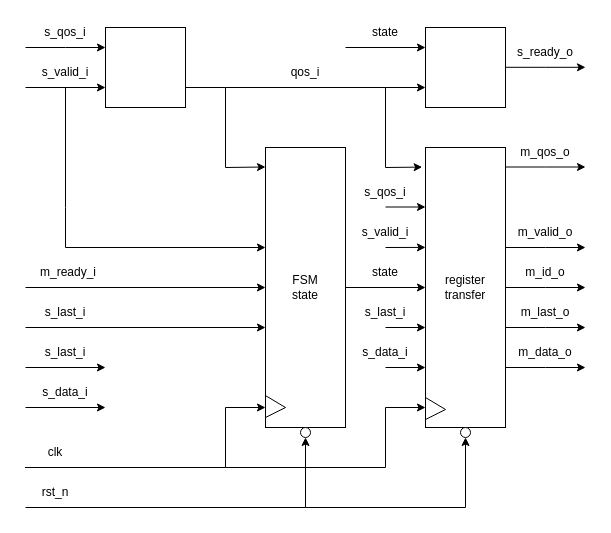
Image size: 611x533. Some labels were removed from this diagram. Each missing label, with the centre of its shape:
"comb other logic" goes at (x=465, y=67).
"prior" goes at (x=145, y=67).
